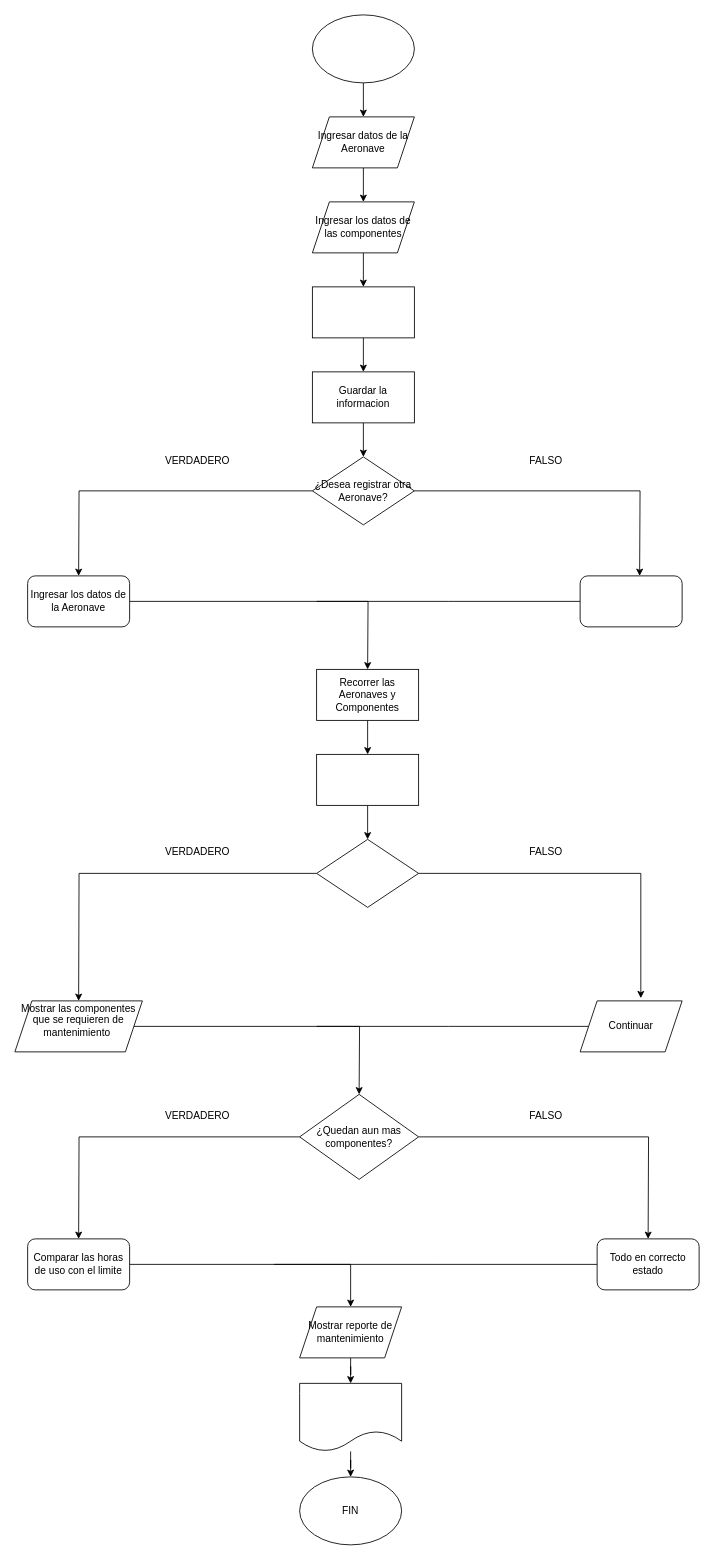
Some shapes in this 714 by 1560 pixel diagram are drawn without their labels. Here are the shapes that lost their labels. From the top down, the centre of each, then its label:
At point 363,48: "INICIO".
At point 363,312: "Crear diccionario de la Aeronave y lista de componentes".
At point 630,601: "Proceso finalizado".
At point 367,779: "Comparar las horas de uso con un limite".
At point 367,873: "¿Horas de uso > limite?".
At point 350,1417: "Imprimir reporte de mantenimiento".
